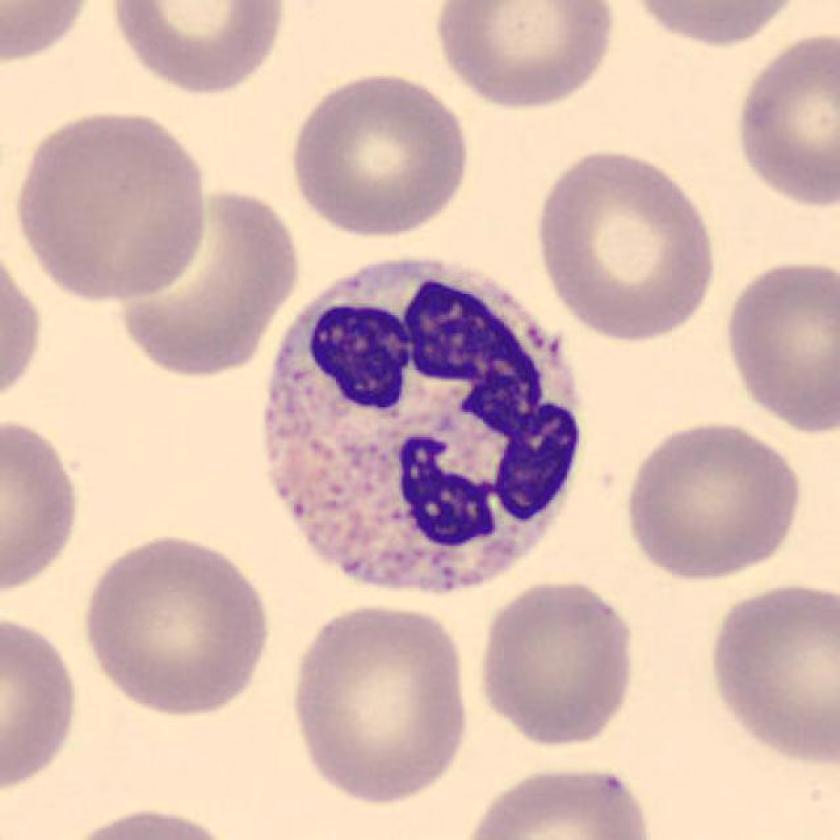neutrophil: (273, 261, 579, 585)
